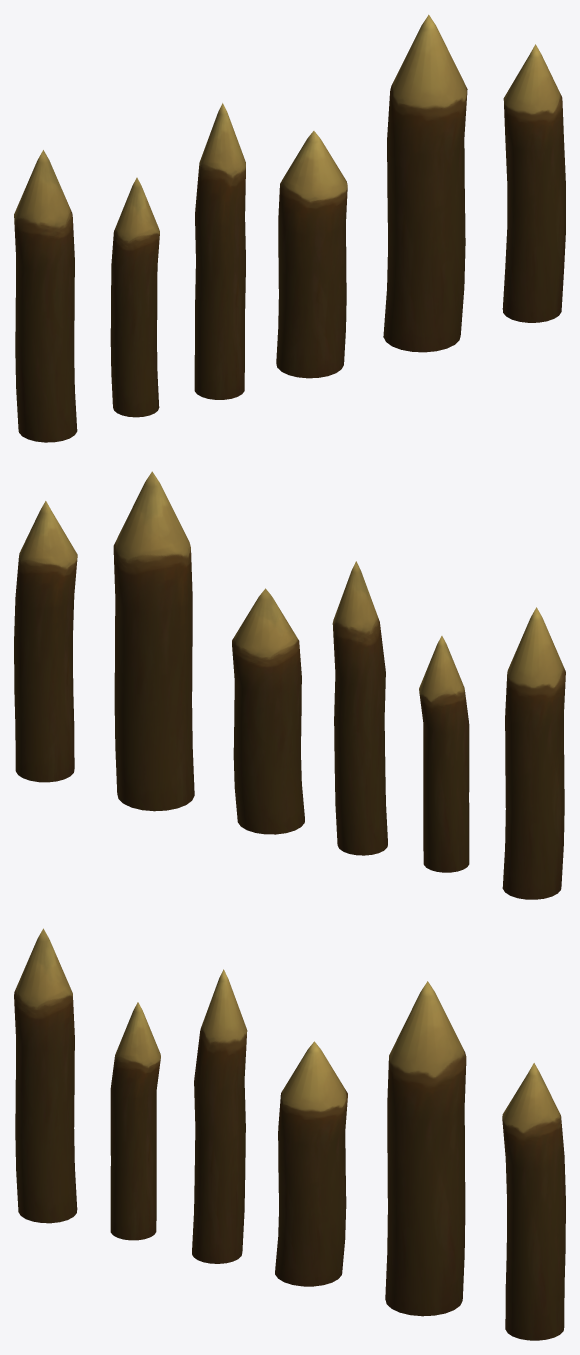
File: wall_pikes.fbx
The picture shows the model from 3 angles, top to bottom: view 1: azimuth 30°, elevation 25°; view 2: azimuth 150°, elevation 25°; view 3: azimuth 330°, elevation 25°; orthographic projection.
Parts seen in each view (by area): view 1: Wall_Pikes; view 2: Wall_Pikes; view 3: Wall_Pikes.
Boxes of the visible parts, box(x1,y1,x2,y2) form: Wall_Pikes: box(14, 14, 565, 442); Wall_Pikes: box(14, 471, 565, 899); Wall_Pikes: box(14, 928, 565, 1340).
Size of the model in its own units: 192 by 109 by 24.37.
1 material, 1 textured.
